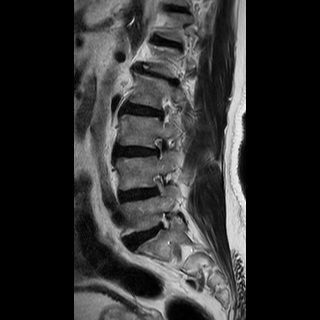LFS1: (147, 130, 173, 164)
